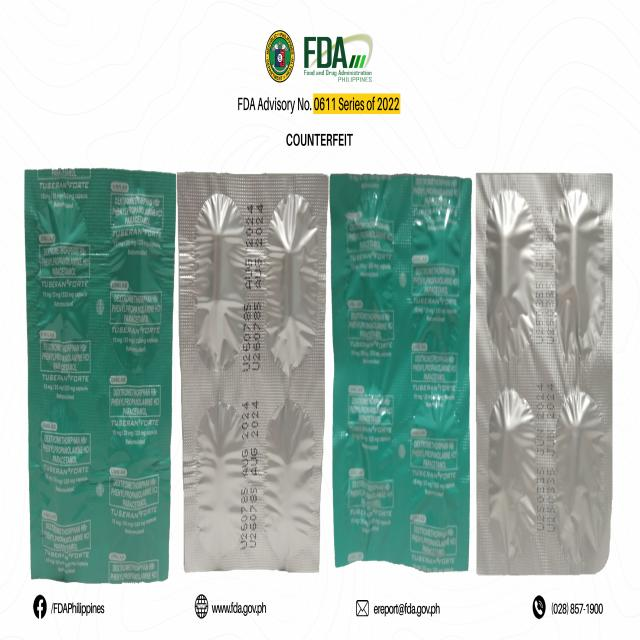counterfeit: (26, 164, 169, 584), (176, 166, 322, 570), (329, 171, 468, 571), (474, 177, 608, 563)
